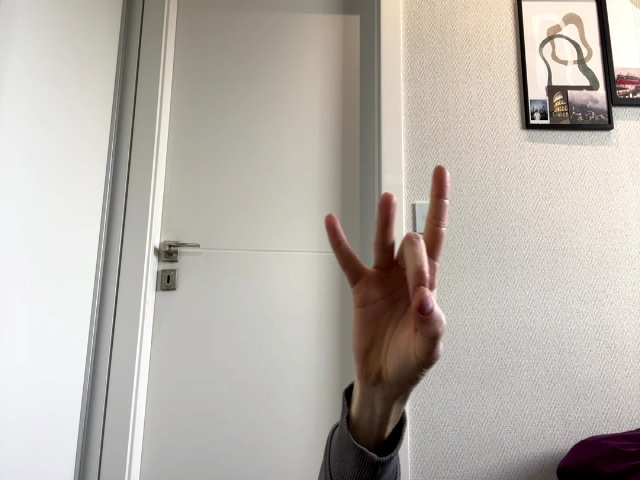G: (325, 164, 449, 379)
